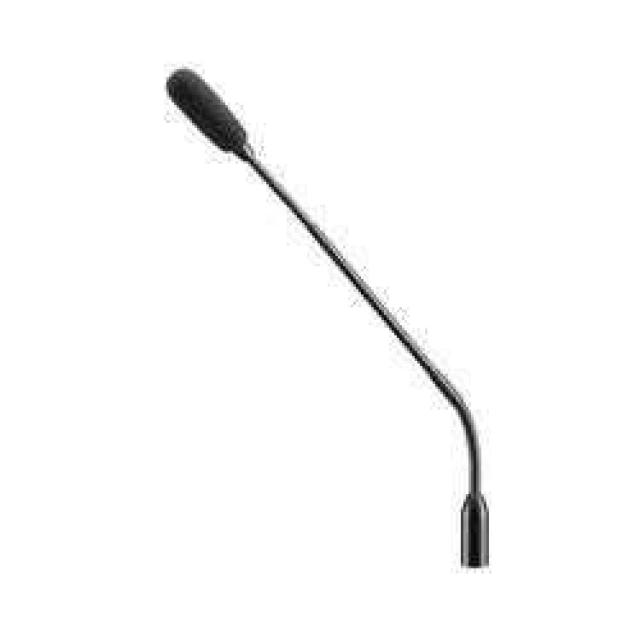microphone: (166, 66, 304, 211)
